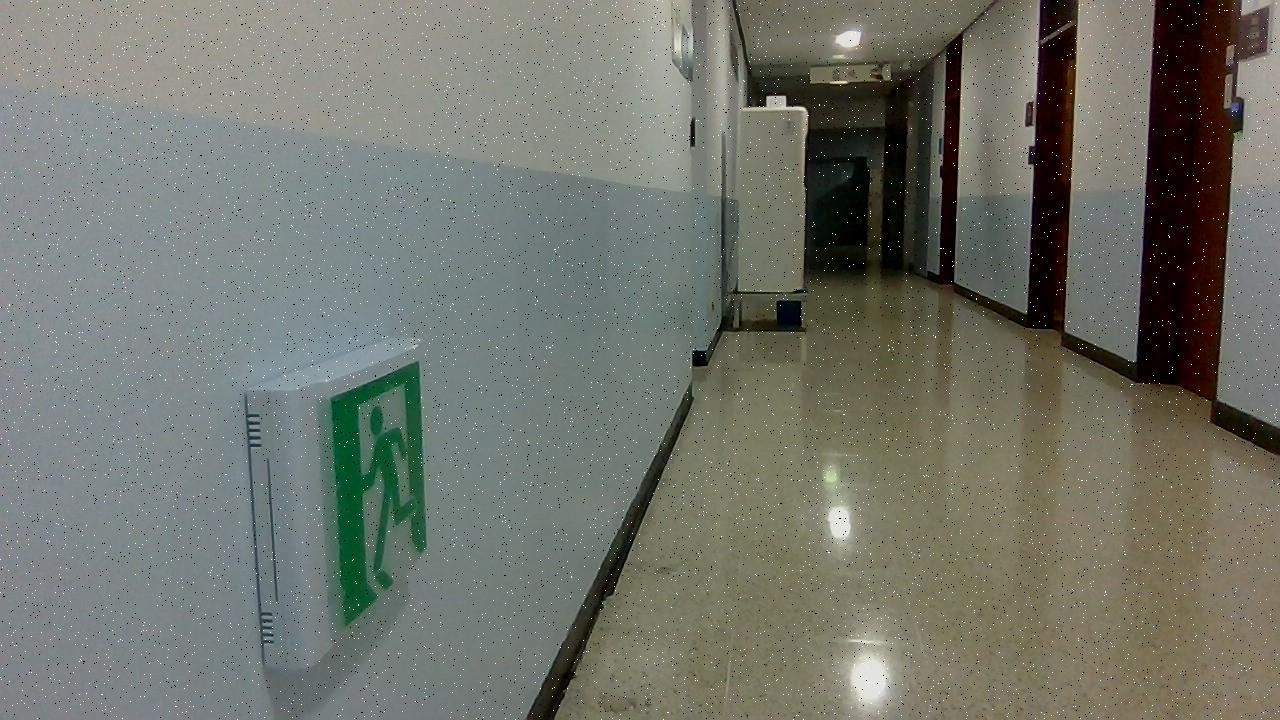emergency_exit: (243, 357, 428, 671), (328, 360, 428, 627)
